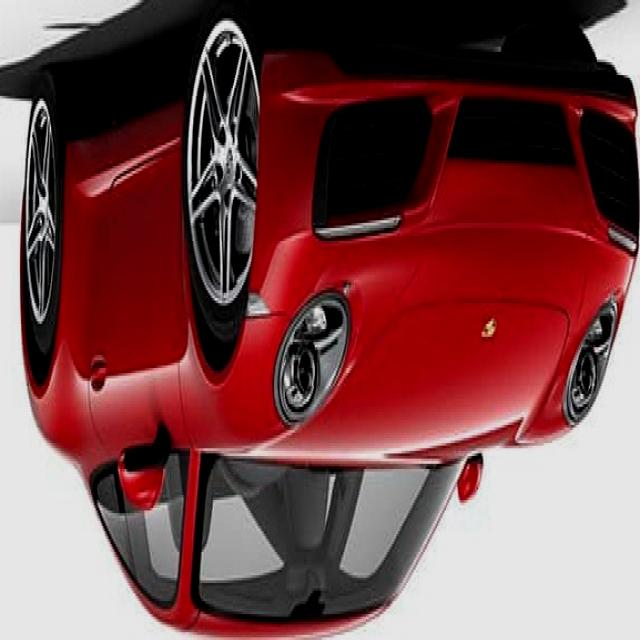red: (19, 5, 640, 630)
